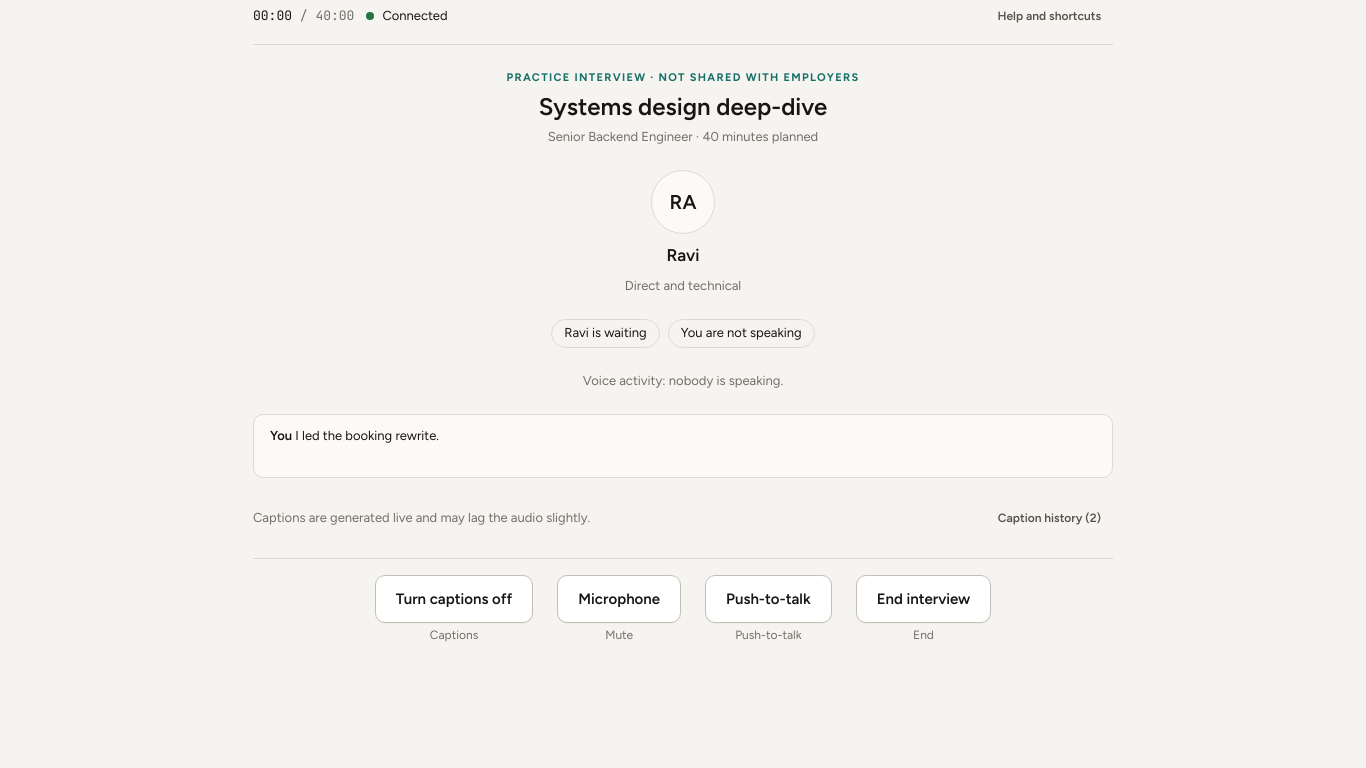
Scenario: captions from the timeline › shows the latest line and the whole history, speaker named
The width and height of the screenshot is (1366, 768).
Expected: the element with test id "caption" shows "I led the booking rewrite", [295,428,439,443]
What coordinates should you click on to do the following:
click the button "Caption history (2)"
I would click on:
 (1049, 518)
Its box is [986,502,1113,534].
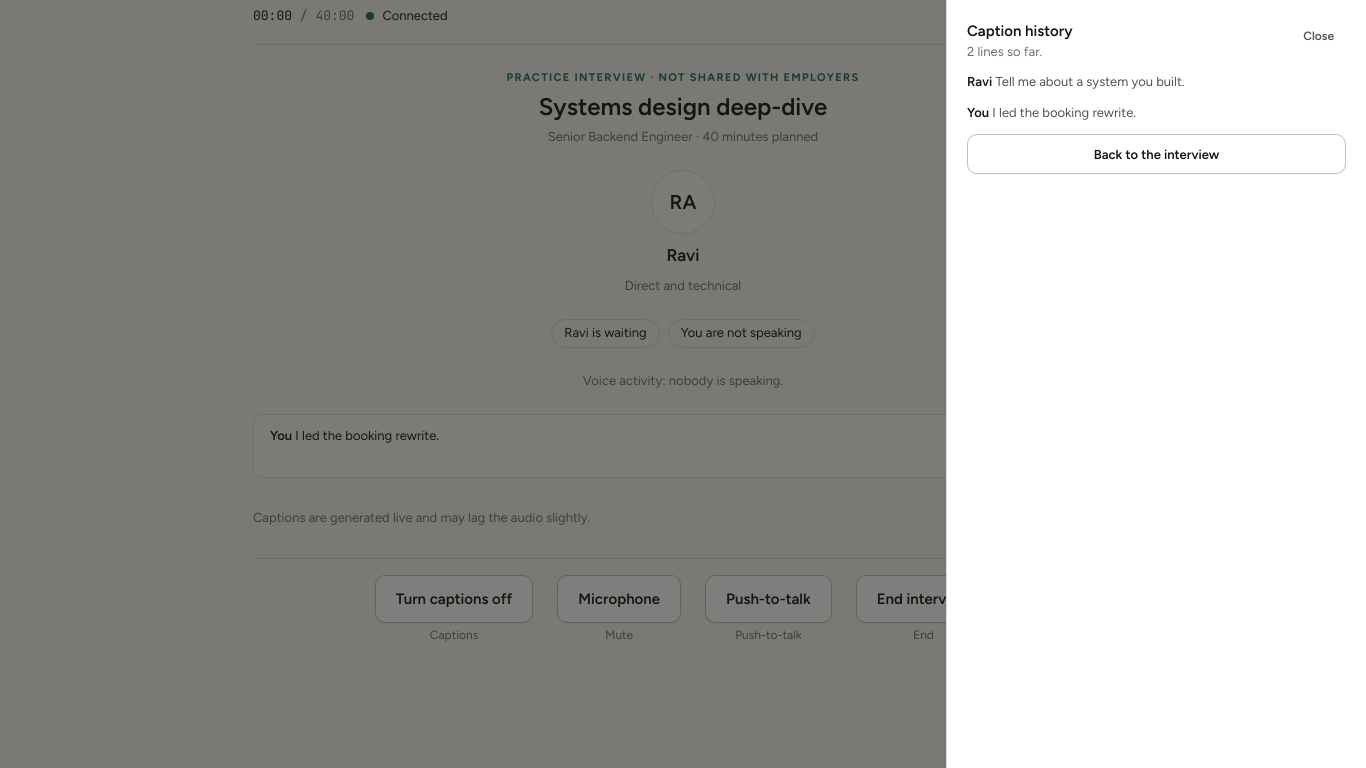
Now the dialog "Caption history" shows "Tell me about a system you built", box [996,74,1184,89]
Now the dialog "Caption history" shows "2 lines so far", box [967,44,1042,58]
